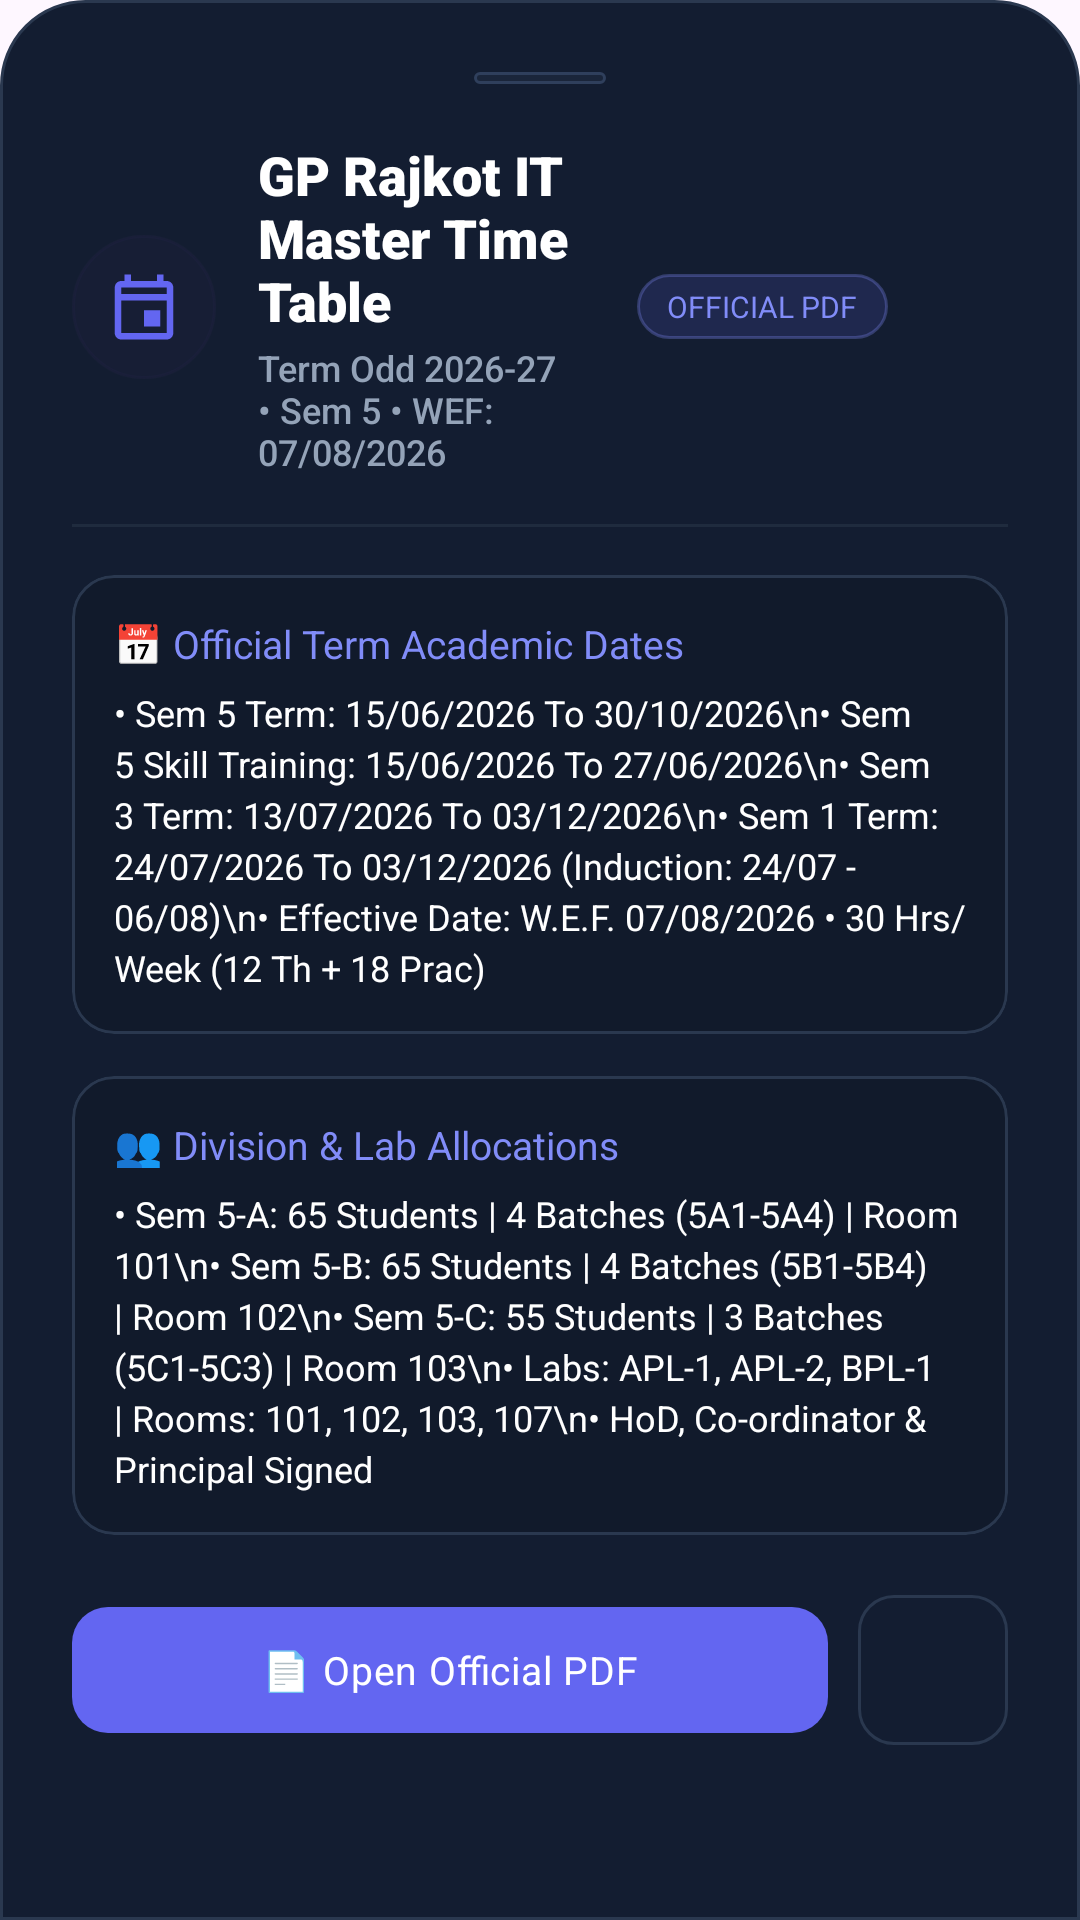

Named icons in this screenshot (1080 x 1920) and their centers, (x,y):
Timetable Icon: (144,307)
